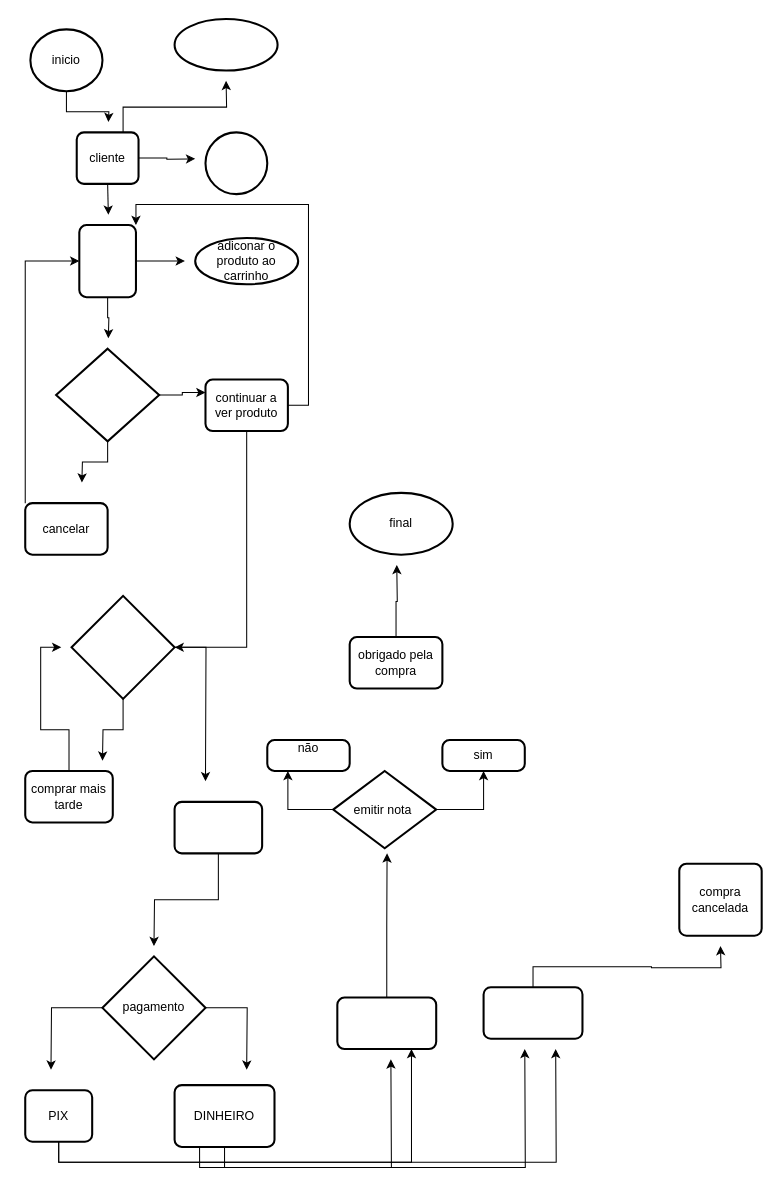
Image size: 781x1194. Some labels were removed from this diagram. Each missing label, with the centre of its shape:
avaliação: point 236,163
carrinho de compra: point 107,394
compra negada: point 532,1012
COMPRAR APROVADA: point 386,1023
concluir comprar: point 218,827
itens do carrinho: point 122,646
produto: point 107,261
realizar compra: point 225,44
